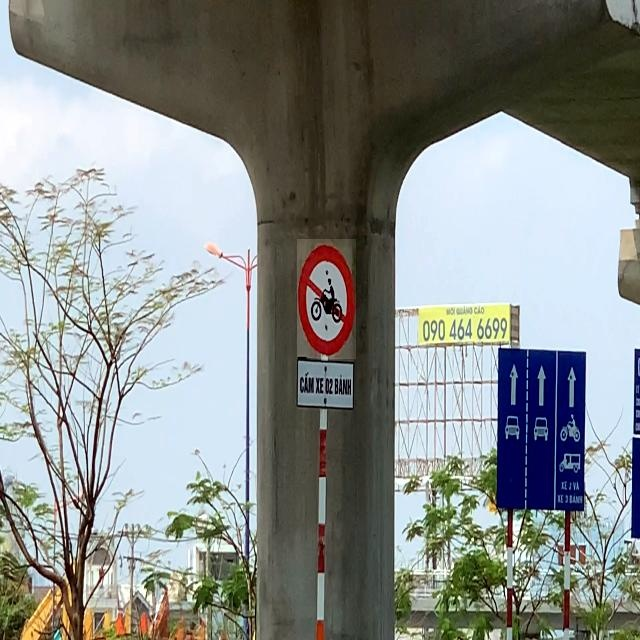bien_chi_dan: (297, 240, 356, 360)
